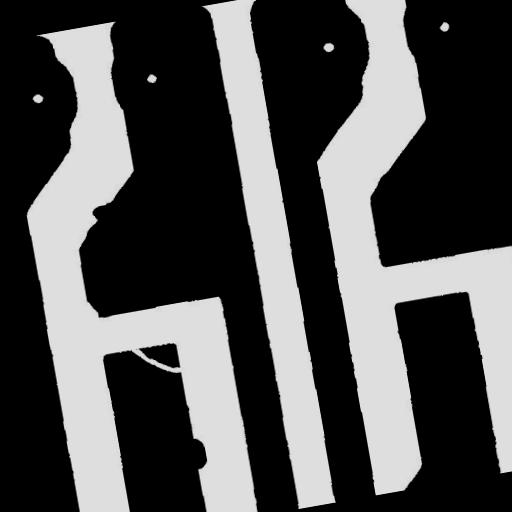mousebite: (74, 290, 108, 330)
open: (122, 331, 190, 388)
spur: (174, 428, 216, 478), (82, 192, 125, 230)
